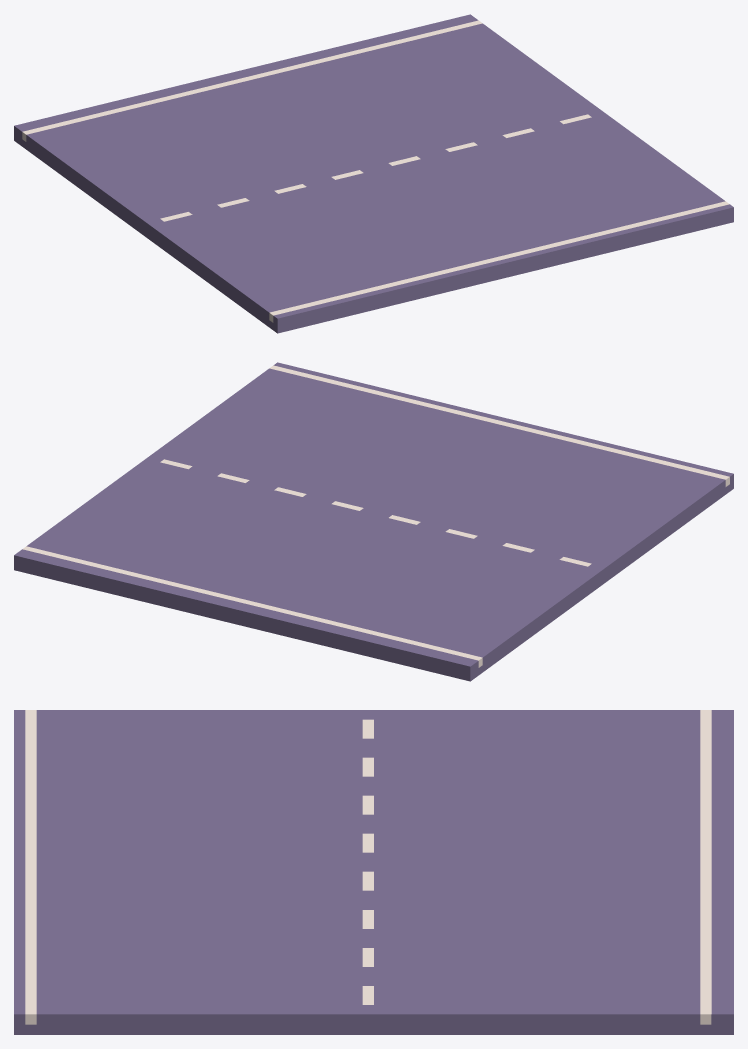
File: road_b_a.obj
The picture shows the model from 3 angles, top to bottom: view 1: azimuth 30°, elevation 25°; view 2: azimuth 150°, elevation 25°; view 3: azimuth 270°, elevation 25°; orthographic projection. The views are drawn at different scales.
Size of the model in its own units: 6.4 by 0.2 by 6.4.
Materials: 1 (1 with a texture image).
